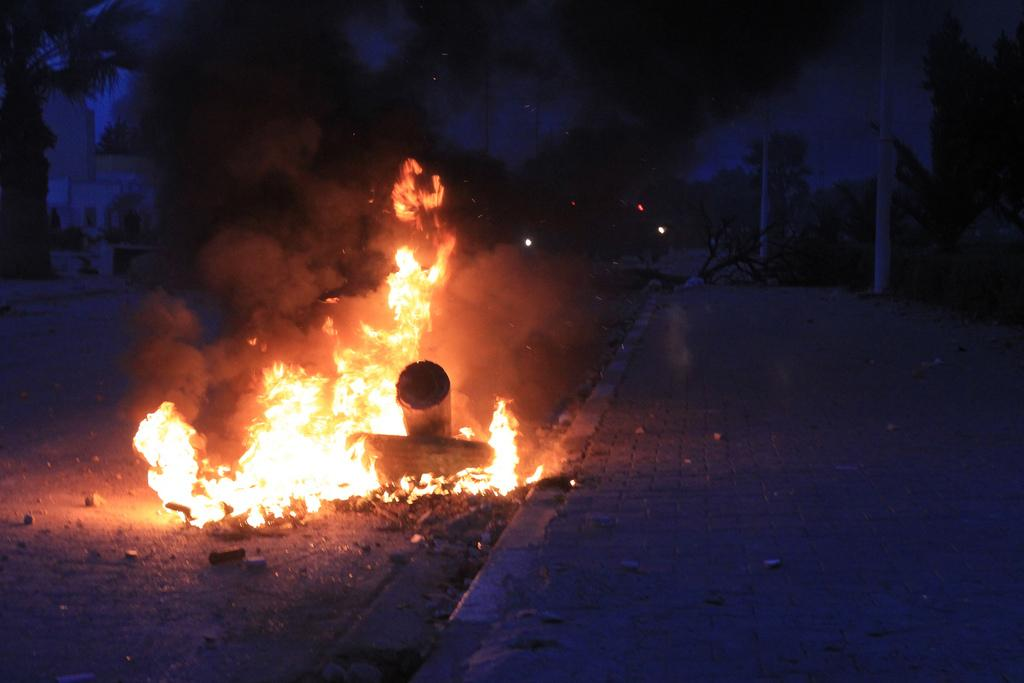fire: (250, 385, 330, 512), (340, 328, 388, 480), (148, 403, 200, 492), (393, 253, 432, 337)
smoke: (182, 72, 365, 250), (625, 13, 735, 92)
